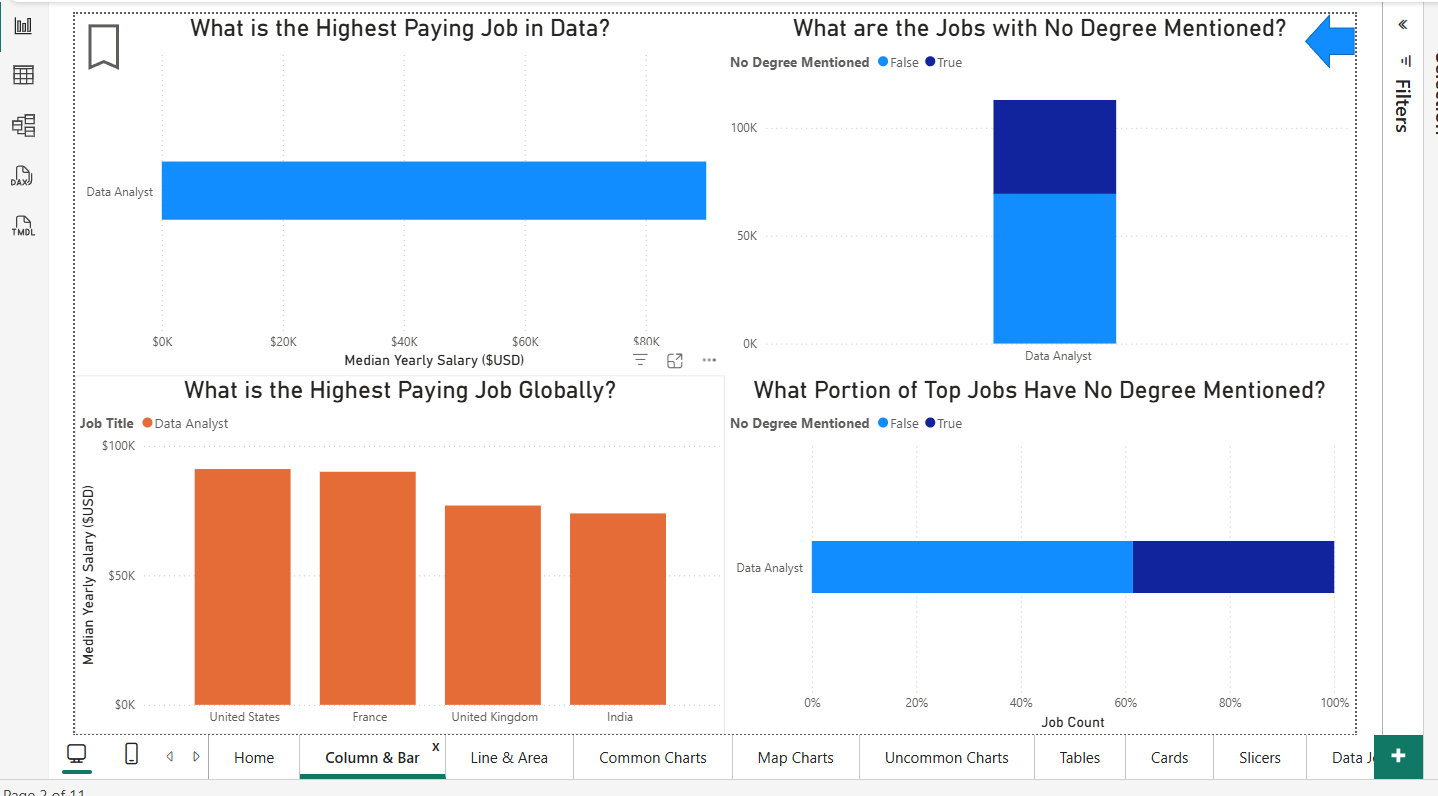

This screenshot's page, from the dashboard's own definition file:
{"tool":"powerbi","page":{"name":"Column & Bar","canvas":[1280,720],"ordinal":1},"visuals":[{"type":"barChart","title":"What is the Highest Paying Job in Data?","fields":{"Category":["job_postings_flat.job_title_short"],"Y":["Median(job_postings_flat.salary_year_avg)"]},"box":[0,0,650.4,359.5],"z":0},{"type":"clusteredColumnChart","title":"What is the Highest Paying Job Globally?","fields":{"Category":["job_postings_flat.job_country"],"Y":["Median(job_postings_flat.salary_year_avg)"],"Series":["job_postings_flat.job_title_short"]},"box":[0,360.9,650.4,359.5],"z":1000},{"type":"columnChart","title":"What are the Jobs with No Degree Mentioned?","fields":{"Category":["job_postings_flat.job_title_short"],"Y":["CountNonNull(job_postings_flat.job_title_short)"],"Series":["job_postings_flat.job_no_degree_mention"]},"box":[650.4,0,629.8,359.5],"z":2000},{"type":"hundredPercentStackedBarChart","title":"What Portion of Top Jobs Have No Degree Mentioned?","fields":{"Category":["job_postings_flat.job_title_short"],"Y":["CountNonNull(job_postings_flat.job_title_short)"],"Series":["job_postings_flat.job_no_degree_mention"]},"box":[650.6,360.7,629.4,359.5],"z":3000},{"type":"shape","box":[1230.3,0,49.8,54.7],"z":4000},{"type":"actionButton","box":[0,0,57.8,65.1],"z":9500}]}

Visuals, with their boxes on the page's 1280x720 design canvas (x1, y1, x2, y2). These are canvas units, not pixel positions in the 1438x796 screenshot, which may show the page scaled, cropped or inside an application window:
"What is the Highest Paying Job in Data?" barChart: left=0, top=0, right=650, bottom=360
"What is the Highest Paying Job Globally?" clusteredColumnChart: left=0, top=361, right=650, bottom=720
"What are the Jobs with No Degree Mentioned?" columnChart: left=650, top=0, right=1280, bottom=360
"What Portion of Top Jobs Have No Degree Mentioned?" hundredPercentStackedBarChart: left=651, top=361, right=1280, bottom=720
shape: left=1230, top=0, right=1280, bottom=55
actionButton: left=0, top=0, right=58, bottom=65
